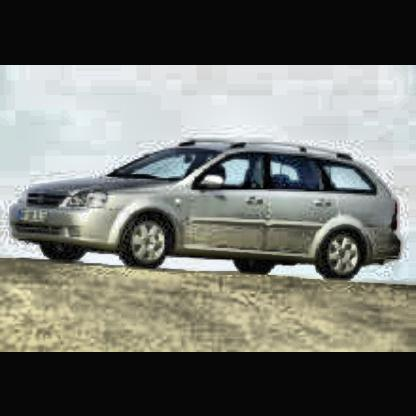Daewoo Nubira Wagon 2002: (8, 135, 416, 290)
